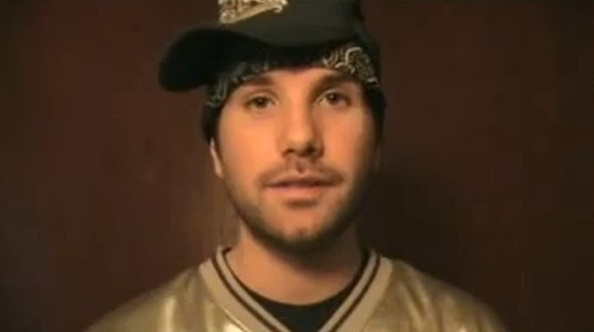NoMask: (231, 69, 358, 241)
